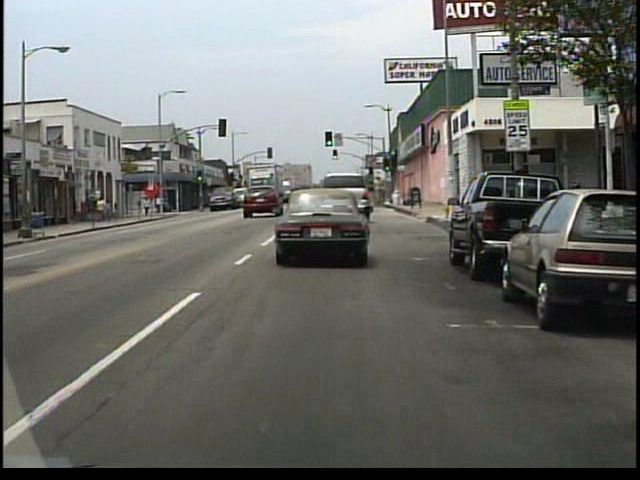person: (98, 196, 108, 223), (105, 198, 113, 222), (143, 196, 151, 217)
